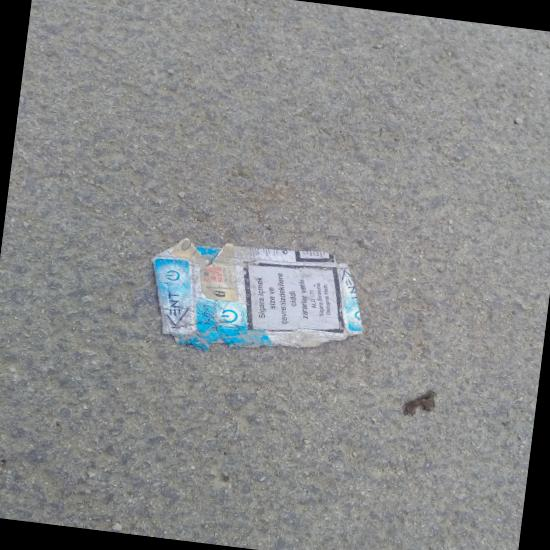Disposable plastic cup: (83, 348, 454, 539)
Plastic film: (195, 0, 550, 257), (258, 298, 549, 338)
Plastic straw: (133, 37, 300, 308)
